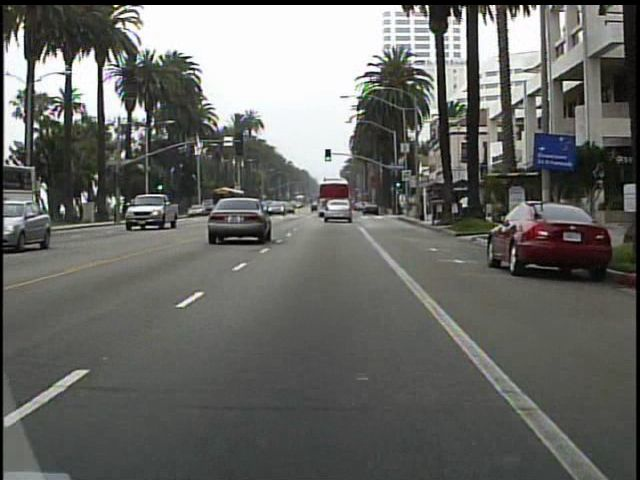person: (456, 191, 472, 221)
